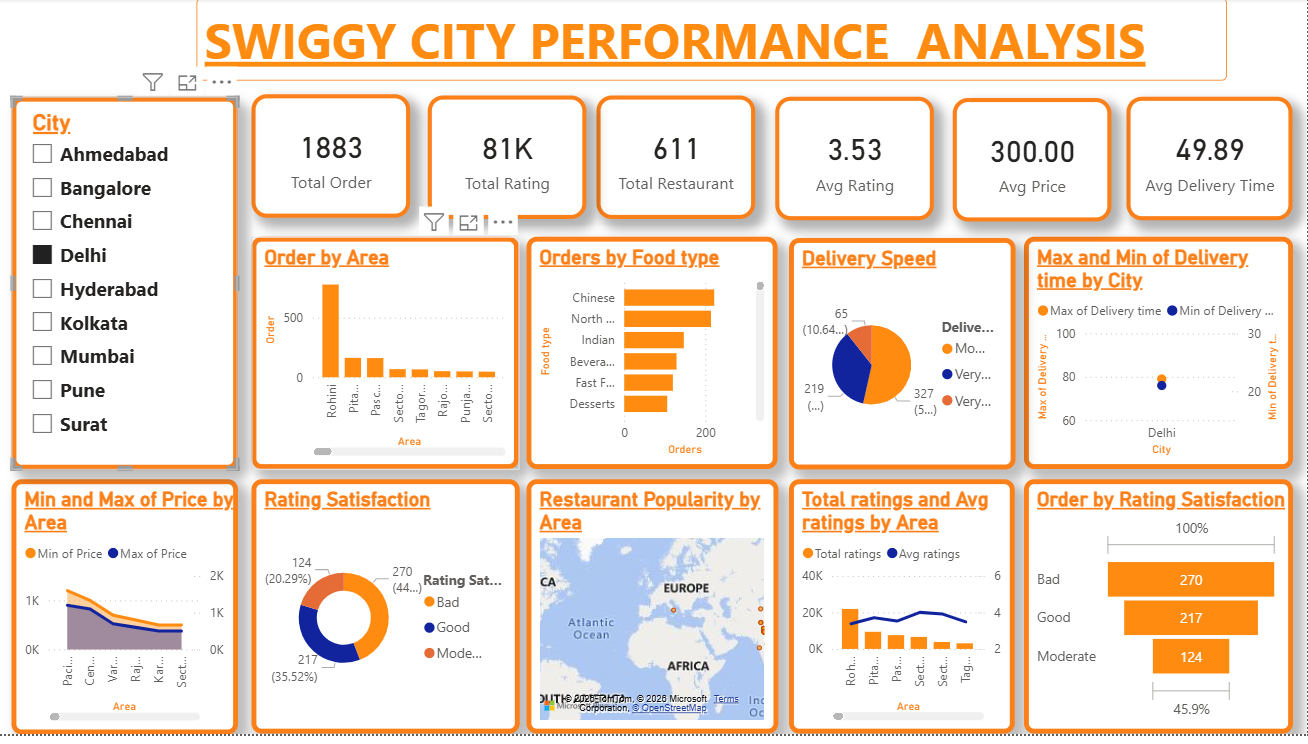

The dashboard page shown, as its layout file describes it:
{"tool":"powerbi","page":{"name":"Page 2","canvas":[1280,720],"ordinal":0},"visuals":[{"type":"card","fields":{"Values":["Swiggy Restuarants dataset COPY.Avg Delivery Time"]},"box":[1103,96.6,162.6,121.1],"z":0},{"type":"lineChart","title":"Max and Min of Delivery time by City","fields":{"Category":["Swiggy Restuarants dataset COPY.City"],"Y":["Max(Swiggy Restuarants dataset COPY.Delivery time)"],"Y2":["Min(Swiggy Restuarants dataset COPY.Delivery time)1"]},"box":[1002.7,233.6,262.9,227.4],"z":1000},{"type":"card","fields":{"Values":["Swiggy Restuarants dataset COPY.Total Order"]},"box":[247,94.2,155.3,121.1],"z":2000},{"type":"card","fields":{"Values":["Swiggy Restuarants dataset COPY.Total Restaurant"]},"box":[584.5,95.4,155.3,121.1],"z":3000},{"type":"card","fields":{"Values":["Swiggy Restuarants dataset COPY.Avg Rating"]},"box":[759.4,96.6,155.3,121.1],"z":4000},{"type":"card","fields":{"Values":["Swiggy Restuarants dataset COPY.Avg Price"]},"box":[933,97.8,155.3,121.1],"z":5000},{"type":"card","fields":{"Values":["Swiggy Restuarants dataset COPY.Total Rating"]},"box":[419.4,95.4,155.3,121.1],"z":6000},{"type":"slicer","fields":{"Values":["Swiggy Restuarants dataset COPY (2).City"]},"box":[12.2,96.6,221.3,364.4],"z":7000},{"type":"columnChart","fields":{"Y":["CountNonNull(Swiggy Restuarants dataset COPY.ID)"],"Category":["Swiggy Restuarants dataset COPY (2).Area"]},"box":[247,233.6,261.7,227.4],"z":8000},{"type":"barChart","fields":{"Category":["Swiggy Restuarants dataset COPY.Food type"],"Y":["CountNonNull(Swiggy Restuarants dataset COPY.ID)"]},"box":[516,233.6,245.8,227.4],"z":9000},{"type":"pieChart","title":"Delivery Speed","fields":{"Category":["Swiggy Restuarants dataset COPY (2).Delivery Speed"],"Y":["CountNonNull(Swiggy Restuarants dataset COPY (2).Delivery Speed)"]},"box":[772.8,234.8,221.3,226.2],"z":10000},{"type":"areaChart","title":"Min and Max of Price by Area","fields":{"Category":["Swiggy Restuarants dataset COPY (2).Area"],"Y":["Min(Swiggy Restuarants dataset COPY (2).Price)"],"Y2":["Max(Swiggy Restuarants dataset COPY (2).Price)1"]},"box":[12.2,470.8,221.3,249.5],"z":11000},{"type":"donutChart","title":"Rating Satisfaction","fields":{"Category":["Swiggy Restuarants dataset COPY (2).Rating Satisfaction"],"Y":["CountNonNull(Swiggy Restuarants dataset COPY (2).Rating Satisfaction)"]},"box":[247,471,262,249],"z":12000},{"type":"map","title":"Restaurant Popularity by Area","fields":{"Category":["Swiggy Restuarants dataset COPY (2).Area"]},"box":[516,471,246,249],"z":13000},{"type":"lineClusteredColumnComboChart","fields":{"Category":["Swiggy Restuarants dataset COPY (2).Area"],"Y":["Sum(Swiggy Restuarants dataset COPY (2).Total ratings)"],"Y2":["Avg(Swiggy Restuarants dataset COPY (2).Avg ratings)"]},"box":[773,471,221,249],"z":14000},{"type":"funnel","title":"Order by Rating Satisfaction","fields":{"Category":["Swiggy Restuarants dataset COPY (2).Rating Satisfaction"],"Y":["CountNonNull(Swiggy Restuarants dataset COPY (2).ID)"]},"box":[1003,471,263,249],"z":15000},{"type":"textbox","box":[193.2,0,1007.6,80.7],"z":16000}]}

Visuals, with their boxes in screenshot pixels (x1, y1, x2, y2), scaled from the page's 1280x720 canvas onto the 1308x744 screenshot:
card - Swiggy Restuarants dataset COPY.Avg Delivery Time: (x1=1127, y1=100, x2=1293, y2=225)
"Max and Min of Delivery time by City" lineChart: (x1=1025, y1=241, x2=1293, y2=476)
card - Swiggy Restuarants dataset COPY.Total Order: (x1=252, y1=97, x2=411, y2=222)
card - Swiggy Restuarants dataset COPY.Total Restaurant: (x1=597, y1=99, x2=756, y2=224)
card - Swiggy Restuarants dataset COPY.Avg Rating: (x1=776, y1=100, x2=935, y2=225)
card - Swiggy Restuarants dataset COPY.Avg Price: (x1=953, y1=101, x2=1112, y2=226)
card - Swiggy Restuarants dataset COPY.Total Rating: (x1=429, y1=99, x2=587, y2=224)
slicer - Swiggy Restuarants dataset COPY (2).City: (x1=12, y1=100, x2=239, y2=476)
columnChart - CountNonNull(Swiggy Restuarants dataset COPY.ID) x Swiggy Restuarants dataset COPY (2).Area: (x1=252, y1=241, x2=520, y2=476)
barChart - Swiggy Restuarants dataset COPY.Food type x CountNonNull(Swiggy Restuarants dataset COPY.ID): (x1=527, y1=241, x2=778, y2=476)
"Delivery Speed" pieChart: (x1=790, y1=243, x2=1016, y2=476)
"Min and Max of Price by Area" areaChart: (x1=12, y1=486, x2=239, y2=743)
"Rating Satisfaction" donutChart: (x1=252, y1=487, x2=520, y2=743)
"Restaurant Popularity by Area" map: (x1=527, y1=487, x2=779, y2=743)
lineClusteredColumnComboChart - Swiggy Restuarants dataset COPY (2).Area x Sum(Swiggy Restuarants dataset COPY (2).Total ratings): (x1=790, y1=487, x2=1016, y2=743)
"Order by Rating Satisfaction" funnel: (x1=1025, y1=487, x2=1294, y2=743)
textbox: (x1=197, y1=0, x2=1227, y2=83)
